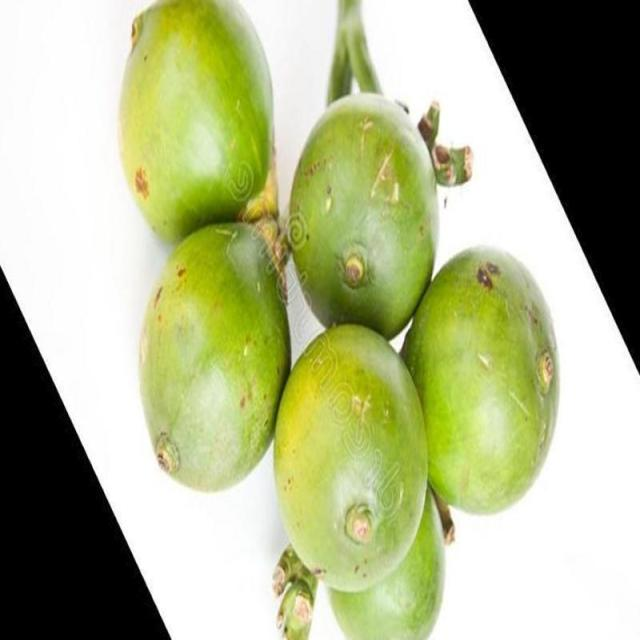good: (271, 324, 446, 639), (401, 248, 560, 517), (139, 223, 292, 497), (117, 0, 275, 247), (287, 93, 437, 348)
